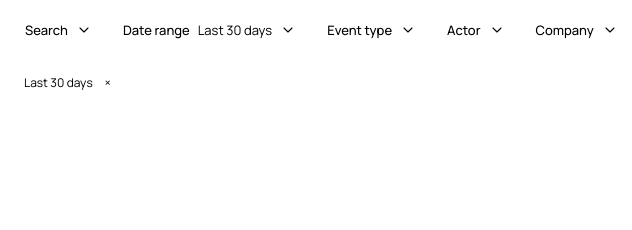
it: AuditFilterCard: date range › auditDate_openingDatePopoverClosesAnOpenSearchPopover
This screenshot has width=632, height=230.
Click the button with test id "audit-search-trigger": click(58, 30) [14, 13, 103, 47]
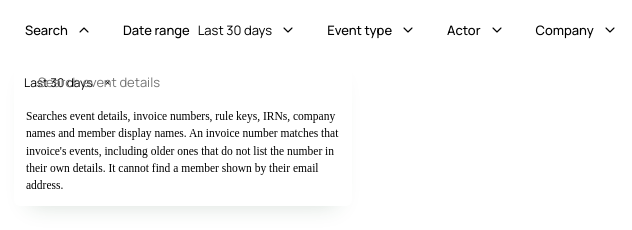
Check: the element with test id "audit-search-panel" is shown, box [14, 53, 352, 206]
Click the button with test id "audit-date-trigger": click(210, 30) [112, 13, 307, 47]
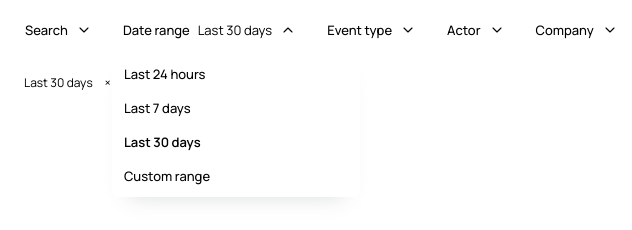
Check: the element with test id "audit-search-panel" is gone
Check: the element with test id "audit-date-panel" is shown, box [112, 53, 360, 197]
